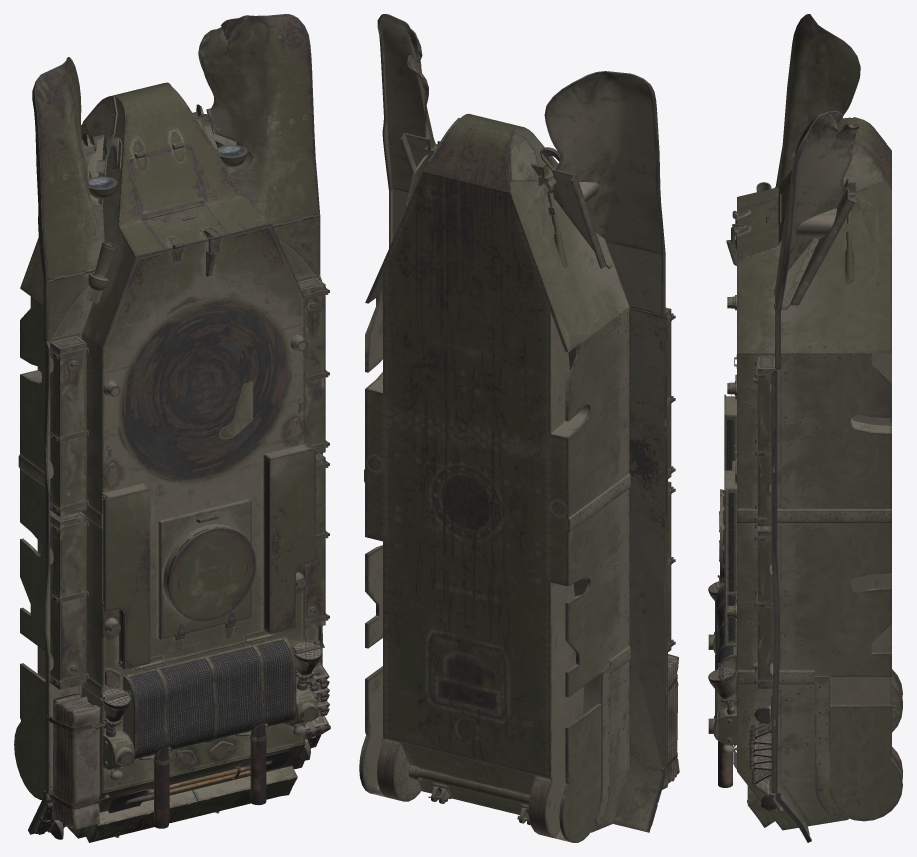
Rendered from Hull.glb.
3 views of the same model, side by side, from view 1: azimuth 30°, elevation 25°; view 2: azimuth 150°, elevation 25°; view 3: azimuth 270°, elevation 25° (orthographic). The views are drawn at different scales.
Parts seen in each view (by area): view 1: set_0_group_0; view 2: set_0_group_0; view 3: set_0_group_0.
Boxes of the visible parts, x1,y1,x2,y2 form: set_0_group_0: (14, 14, 330, 842); set_0_group_0: (359, 14, 679, 842); set_0_group_0: (708, 14, 902, 842).
Size of the model in its own units: 2.17 by 5.66 by 1.4.
1 material, 1 textured.
